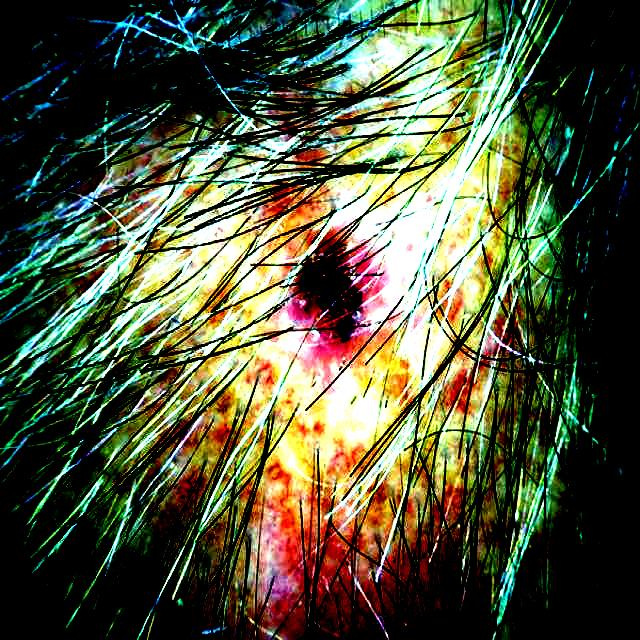BCC: (237, 74, 460, 420)
